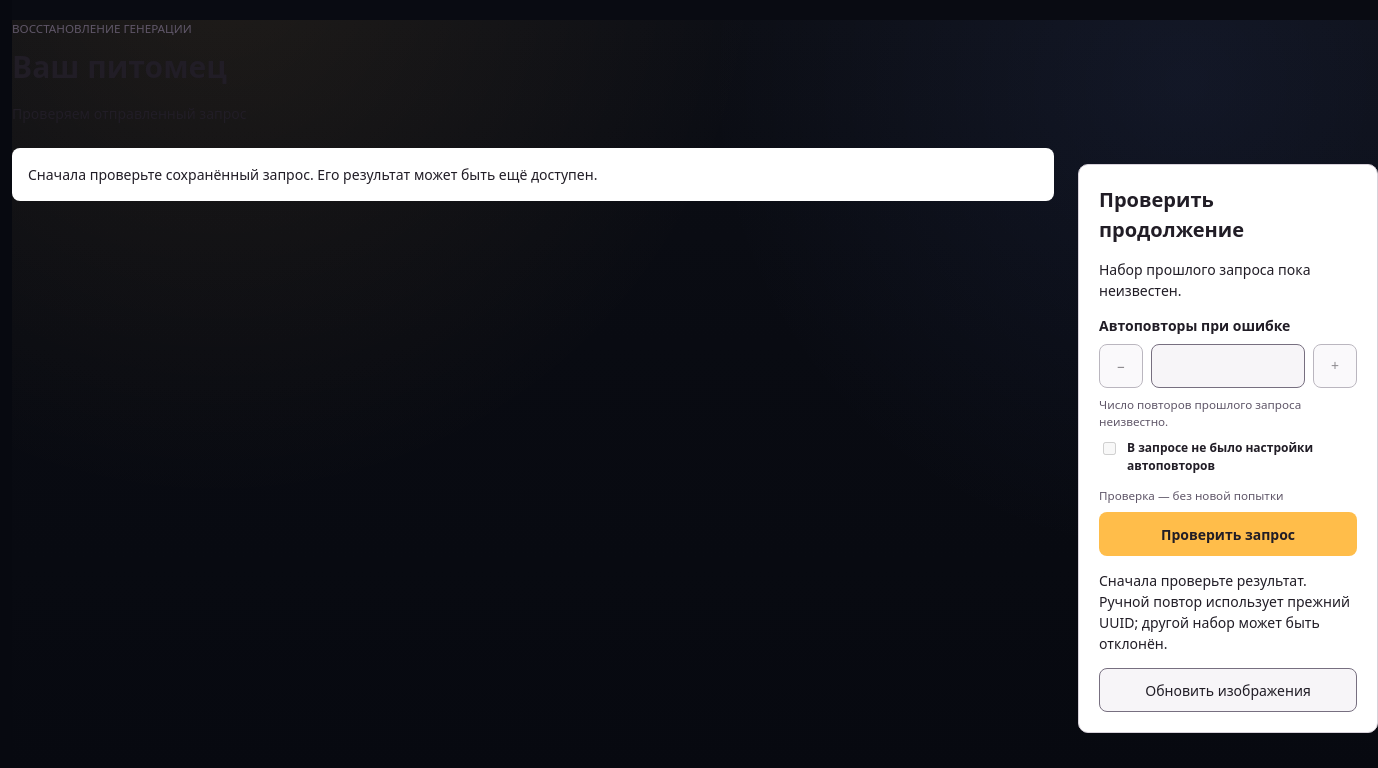
Test: restores server preparation input even if storage is blocked: false
What coordinates should you click on to do the following:
click the button "Проверить запрос"
I would click on:
 (1228, 534)
Its box is [1099,512,1357,556].
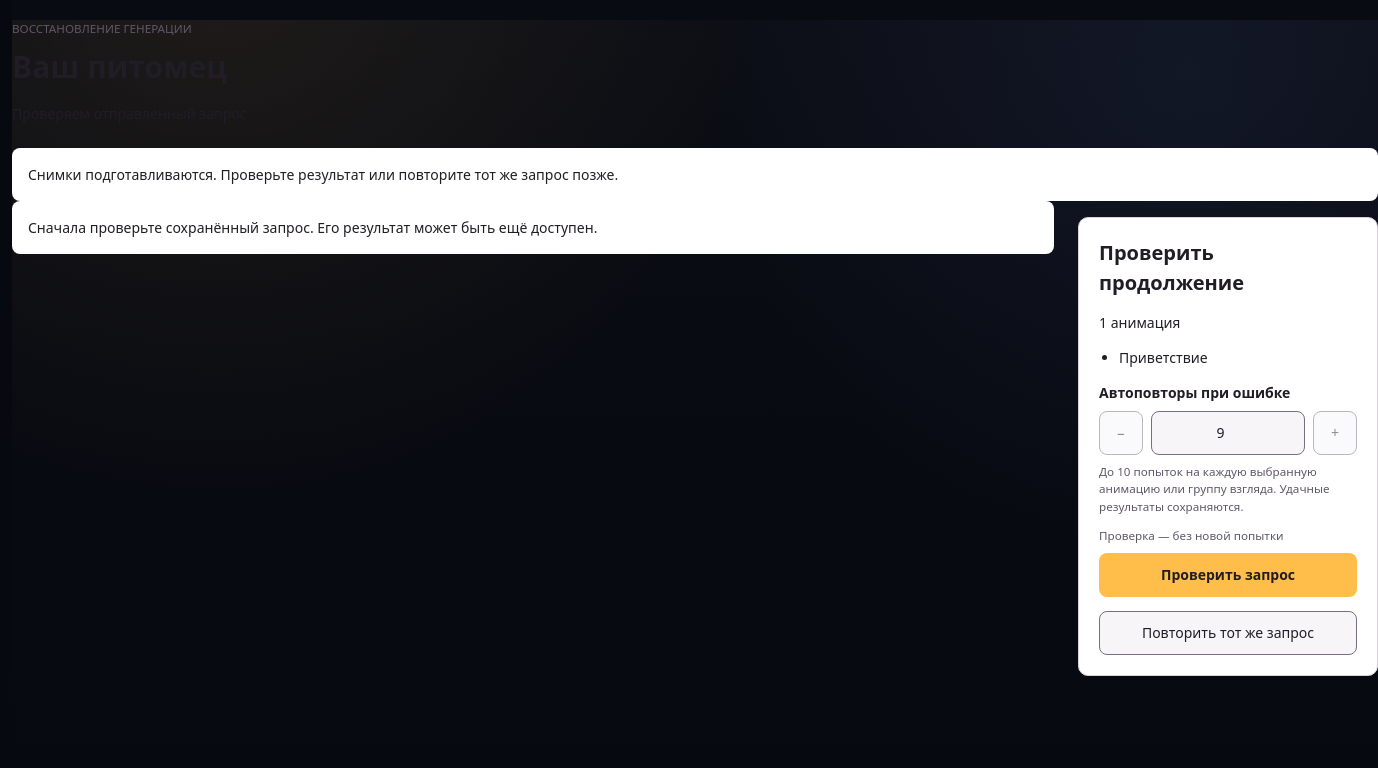
Check: the number field named "Автоповторы при ошибке" is disabled, box [1151,410,1305,454]
Check: the number field named "Автоповторы при ошибке" holds "9", box [1151,410,1305,454]
